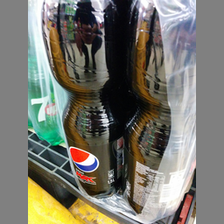soda: (40, 1, 125, 200), (124, 1, 196, 215)
